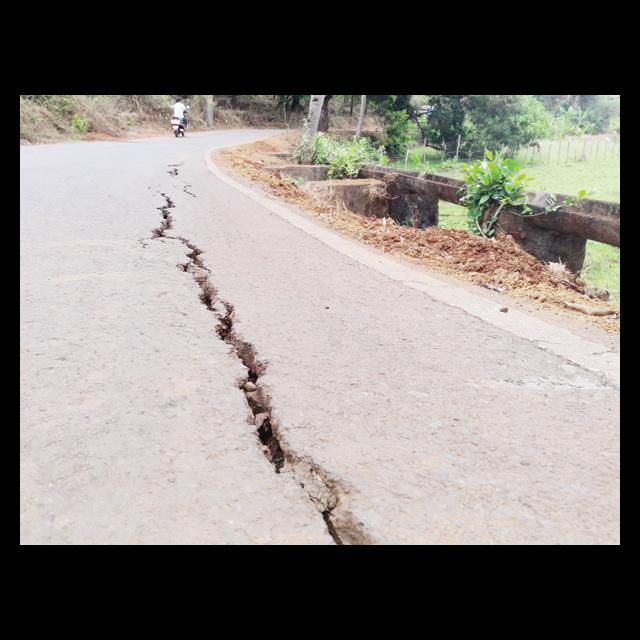retak_memanjang: (132, 160, 292, 471)
